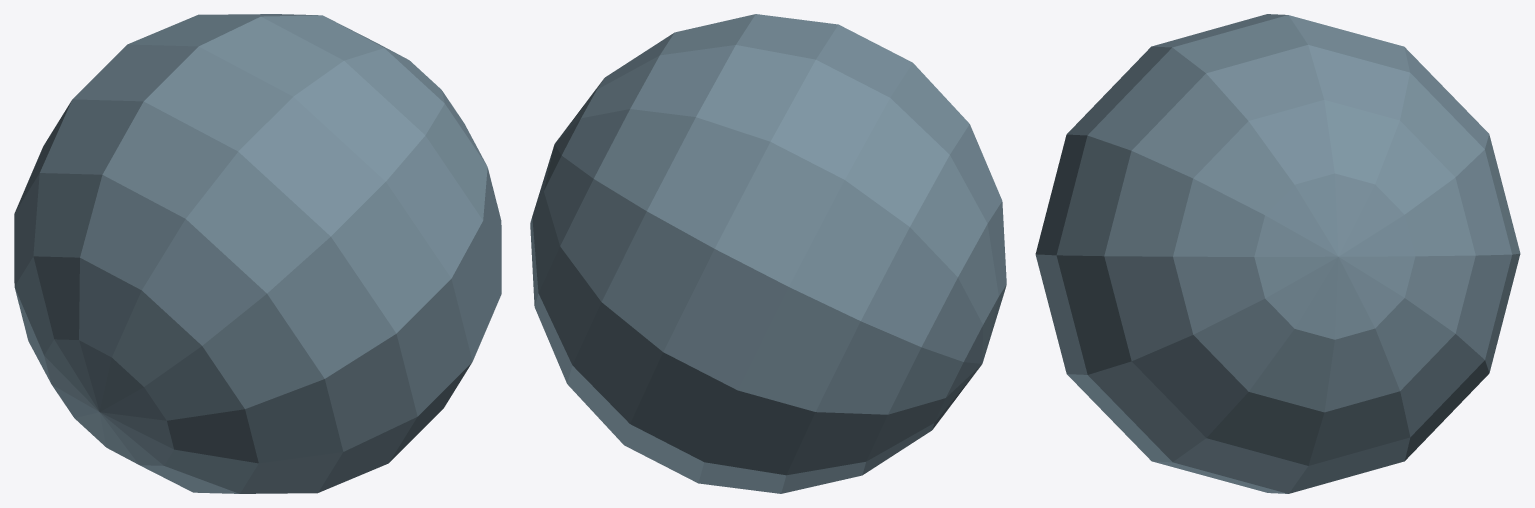
The model's file is astronaut_spawn_group986243464_lev4.glb.
3 renders of one model, left to right at view 1: azimuth 30°, elevation 25°; view 2: azimuth 150°, elevation 25°; view 3: azimuth 270°, elevation 25°, orthographic. The views are drawn at different scales.
Visible parts, largest first — view 1: astronaut_spawn_group986243464_lev4; view 2: astronaut_spawn_group986243464_lev4; view 3: astronaut_spawn_group986243464_lev4.
Boxes of the visible parts, box(x1,y1,x2,y2) form: astronaut_spawn_group986243464_lev4: box(14, 14, 501, 493); astronaut_spawn_group986243464_lev4: box(530, 14, 1006, 493); astronaut_spawn_group986243464_lev4: box(1035, 14, 1520, 493).
Bounding box in the file's own units: 0.0327 × 0.0327 × 0.033.
